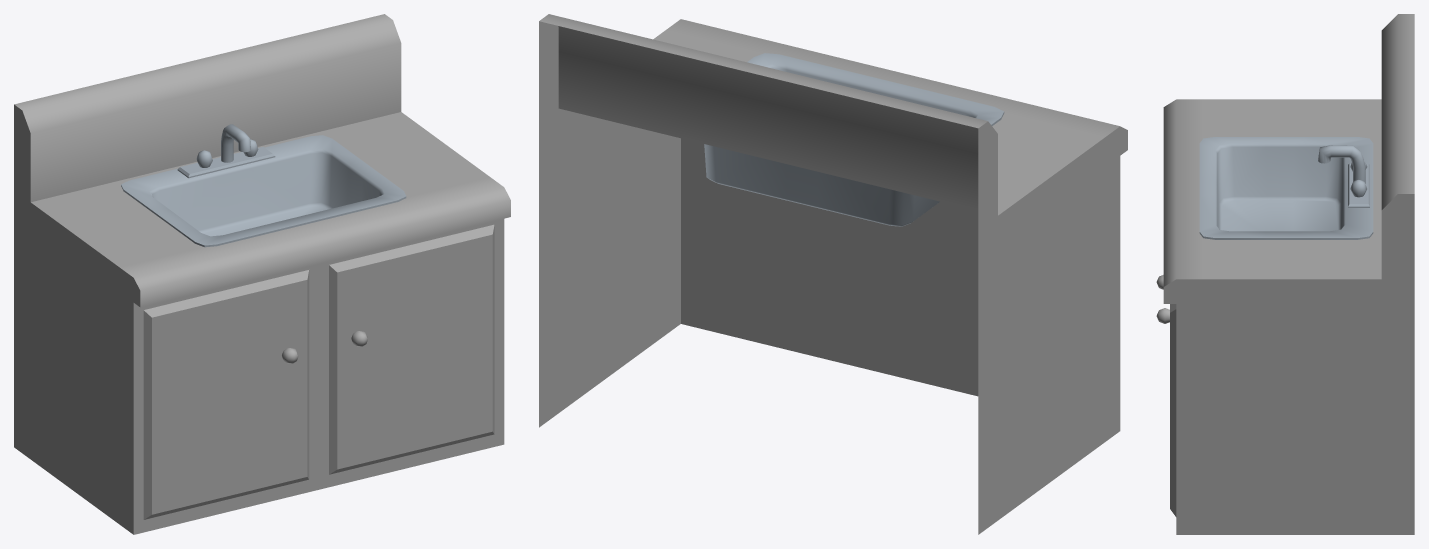
Rendered from Mesh_CounterSink.FBX.
3 views of the same model, side by side, from view 1: azimuth 30°, elevation 25°; view 2: azimuth 150°, elevation 25°; view 3: azimuth 270°, elevation 25° (orthographic). The views are drawn at different scales.
Visible parts, largest first — view 1: Mesh_CounterSink; view 2: Mesh_CounterSink; view 3: Mesh_CounterSink.
Part boxes in pixels (x1,y1,x2,y2): Mesh_CounterSink: (14,14,510,534); Mesh_CounterSink: (539,14,1127,534); Mesh_CounterSink: (1156,14,1414,534).
Bounding box in the file's own units: 2.06 × 1.82 × 1.25.
